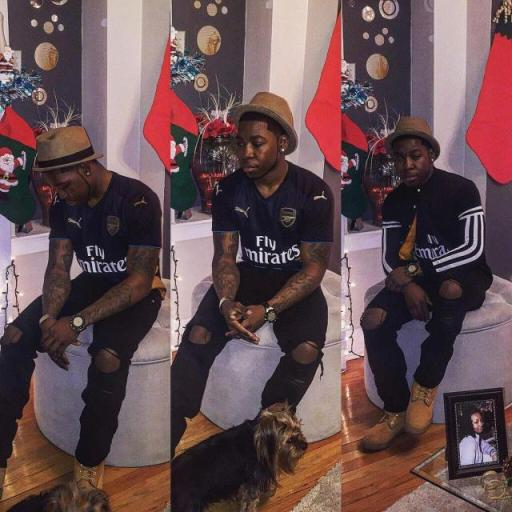Emirates: (72, 242, 128, 276), (242, 235, 302, 266), (410, 233, 452, 262)
